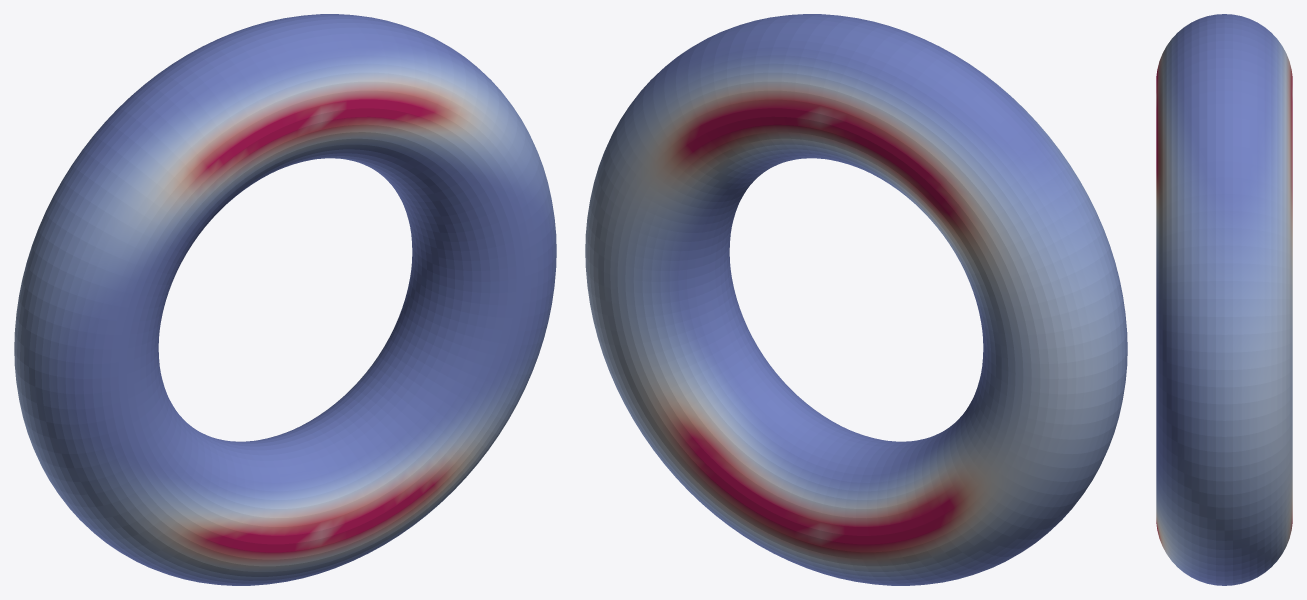
The picture shows the model from 3 angles, left to right: view 1: azimuth 30°, elevation 25°; view 2: azimuth 150°, elevation 25°; view 3: azimuth 270°, elevation 25°; orthographic projection. The views are drawn at different scales.
Visible parts, largest first — view 1: world; view 2: world; view 3: world.
Boxes of the visible parts, x1,y1,x2,y2 form: world: (14,14,556,585); world: (585,14,1127,585); world: (1156,14,1292,585).
Size of the model in its own units: 18.4 by 18.4 by 4.39.
